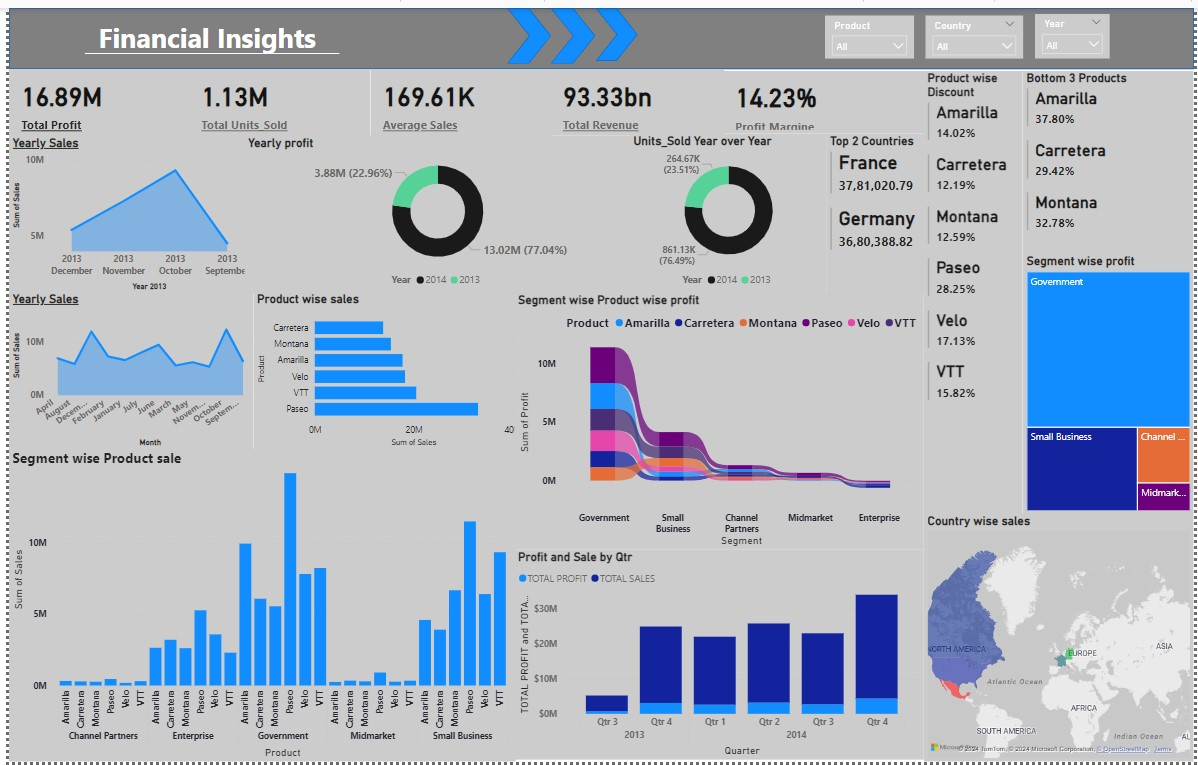

This screenshot's page, from the dashboard's own definition file:
{"tool":"powerbi","page":{"name":"DASHBOARD","canvas":[1650,1050],"ordinal":0},"visuals":[{"type":"textbox","box":[9,0,1270,55],"z":0},{"type":"clusteredBarChart","title":"Product wise sales","fields":{"Category":["wcfds.Product"],"Y":["Sum(wcfds.Sales)"]},"box":[340,395,377.5,220],"z":1000},{"type":"shape","box":[0,0,1650,85],"z":2000},{"type":"textbox","box":[0,10,552,66],"z":3000},{"type":"textbox","box":[100,42,404,64],"z":4000},{"type":"cardVisual","fields":{"Data":["Sum(wcfds.Profit)"]},"box":[0,85,251.7,93.3],"z":5000},{"type":"cardVisual","fields":{"Data":["Sum(wcfds.Units_Sold)"]},"box":[251.7,85,251.7,93.3],"z":6000},{"type":"cardVisual","fields":{"Data":["Avg(wcfds.Sales)"]},"box":[503.3,85,251.7,93.3],"z":7000},{"type":"cardVisual","fields":{"Data":["wcfds.Units_Sold x Sale_Price"]},"box":[754.1,85.6,242.3,94],"z":8000},{"type":"cardVisual","fields":{"Data":["wcfds.profit margine"]},"box":[994.3,87.7,279.9,91.9],"z":9000},{"type":"treemap","title":"Segment wise profit","fields":{"Group":["wcfds.Segment"],"Values":["Sum(wcfds.Profit)"]},"box":[1412.5,342.5,237.5,362.5],"z":10000},{"type":"filledMap","title":"Country wise sales","fields":{"Category":["wcfds.Country"]},"box":[1275,705,375,345],"z":11000},{"type":"columnChart","title":"Profit and Sale by Qtr","fields":{"Category":["wcfds.Date.Variation.Date Hierarchy.Year","wcfds.Date.Variation.Date Hierarchy.Quarter"],"Y":["wcfds.TOTAL PROFIT","wcfds.TOTAL SALES"]},"box":[705,755,570,292.5],"z":12000},{"type":"stackedAreaChart","title":"Yearly Sales","fields":{"Category":["wcfds.Month_Name","wcfds.Year"],"Y":["Sum(wcfds.Sales)"]},"box":[0,177.5,337.5,220],"z":13000},{"type":"stackedAreaChart","title":"Yearly Sales","fields":{"Category":["wcfds.Month_Name","wcfds.Year"],"Y":["Sum(wcfds.Sales)"]},"box":[0,395,340,220],"z":14000},{"type":"donutChart","title":"Yearly profit","fields":{"Category":["wcfds.Year"],"Y":["Sum(wcfds.Profit)"]},"box":[328,175.5,536.8,219.3],"z":15000},{"type":"donutChart","title":"Units_Sold  Year over Year","fields":{"Category":["wcfds.Year"],"Y":["Sum(wcfds.Units_Sold)"]},"box":[864.8,179.6,273.6,219.3],"z":16000},{"type":"multiRowCard","title":"Top 2 Countries ","fields":{"Values":["wcfds.Country","Sum(wcfds.Profit)"]},"box":[1138.5,179.6,142,219.3],"z":17000},{"type":"multiRowCard","title":"Bottom 3 Products","fields":{"Values":["wcfds.Product","Sum(wcfds.Sales)"]},"box":[1412.5,87.5,237.5,255],"z":18000},{"type":"multiRowCard","title":"Product wise Discount","fields":{"Values":["wcfds.Product","Divide(Sum(wcfds.Discounts), ScopedEval(Sum(wcfds.Discounts), []))"]},"box":[1275,87.5,137.5,617.5],"z":19000},{"type":"ribbonChart","title":"Segment wise Product wise profit","fields":{"Category":["wcfds.Segment"],"Y":["Sum(wcfds.Profit)"],"Series":["wcfds.Product"]},"box":[705,397.5,570,357.5],"z":20000},{"type":"columnChart","title":"Segment wise Product sale","fields":{"Category":["wcfds.Segment","wcfds.Product"],"Y":["Sum(wcfds.Sales)"]},"box":[0,615,705,435],"z":21000},{"type":"slicer","fields":{"Values":["wcfds.Year"]},"box":[1428,8,104,62],"z":22000},{"type":"slicer","fields":{"Values":["wcfds.Country"]},"box":[1276,10,136,60],"z":23000},{"type":"slicer","fields":{"Values":["wcfds.Product"]},"box":[1136,10,124,60],"z":24000},{"type":"shape","box":[693.8,0,61.2,77.5],"z":25000},{"type":"shape","box":[816.2,0,58.8,73.8],"z":26000},{"type":"shape","box":[753.8,0,62.5,77.5],"z":27000}]}

Visuals, with their boxes in screenshot pixels (x1, y1, x2, y2), scaled from the page's 1650x1050 canvas onto the 1198x765 screenshot:
textbox: (x1=7, y1=0, x2=929, y2=40)
"Product wise sales" clusteredBarChart: (x1=247, y1=288, x2=521, y2=448)
shape: (x1=0, y1=0, x2=1197, y2=62)
textbox: (x1=0, y1=7, x2=401, y2=55)
textbox: (x1=73, y1=31, x2=366, y2=77)
cardVisual - Sum(wcfds.Profit): (x1=0, y1=62, x2=183, y2=130)
cardVisual - Sum(wcfds.Units_Sold): (x1=183, y1=62, x2=365, y2=130)
cardVisual - Avg(wcfds.Sales): (x1=365, y1=62, x2=548, y2=130)
cardVisual - wcfds.Units_Sold x Sale_Price: (x1=548, y1=62, x2=723, y2=131)
cardVisual - wcfds.profit margine: (x1=722, y1=64, x2=925, y2=131)
"Segment wise profit" treemap: (x1=1026, y1=250, x2=1197, y2=514)
"Country wise sales" filledMap: (x1=926, y1=514, x2=1197, y2=764)
"Profit and Sale by Qtr" columnChart: (x1=512, y1=550, x2=926, y2=763)
"Yearly Sales" stackedAreaChart: (x1=0, y1=129, x2=245, y2=290)
"Yearly Sales" stackedAreaChart: (x1=0, y1=288, x2=247, y2=448)
"Yearly profit" donutChart: (x1=238, y1=128, x2=628, y2=288)
"Units_Sold  Year over Year" donutChart: (x1=628, y1=131, x2=827, y2=291)
"Top 2 Countries " multiRowCard: (x1=827, y1=131, x2=930, y2=291)
"Bottom 3 Products" multiRowCard: (x1=1026, y1=64, x2=1197, y2=250)
"Product wise Discount" multiRowCard: (x1=926, y1=64, x2=1026, y2=514)
"Segment wise Product wise profit" ribbonChart: (x1=512, y1=290, x2=926, y2=550)
"Segment wise Product sale" columnChart: (x1=0, y1=448, x2=512, y2=764)
slicer - wcfds.Year: (x1=1037, y1=6, x2=1112, y2=51)
slicer - wcfds.Country: (x1=926, y1=7, x2=1025, y2=51)
slicer - wcfds.Product: (x1=825, y1=7, x2=915, y2=51)
shape: (x1=504, y1=0, x2=548, y2=56)
shape: (x1=593, y1=0, x2=635, y2=54)
shape: (x1=547, y1=0, x2=593, y2=56)
